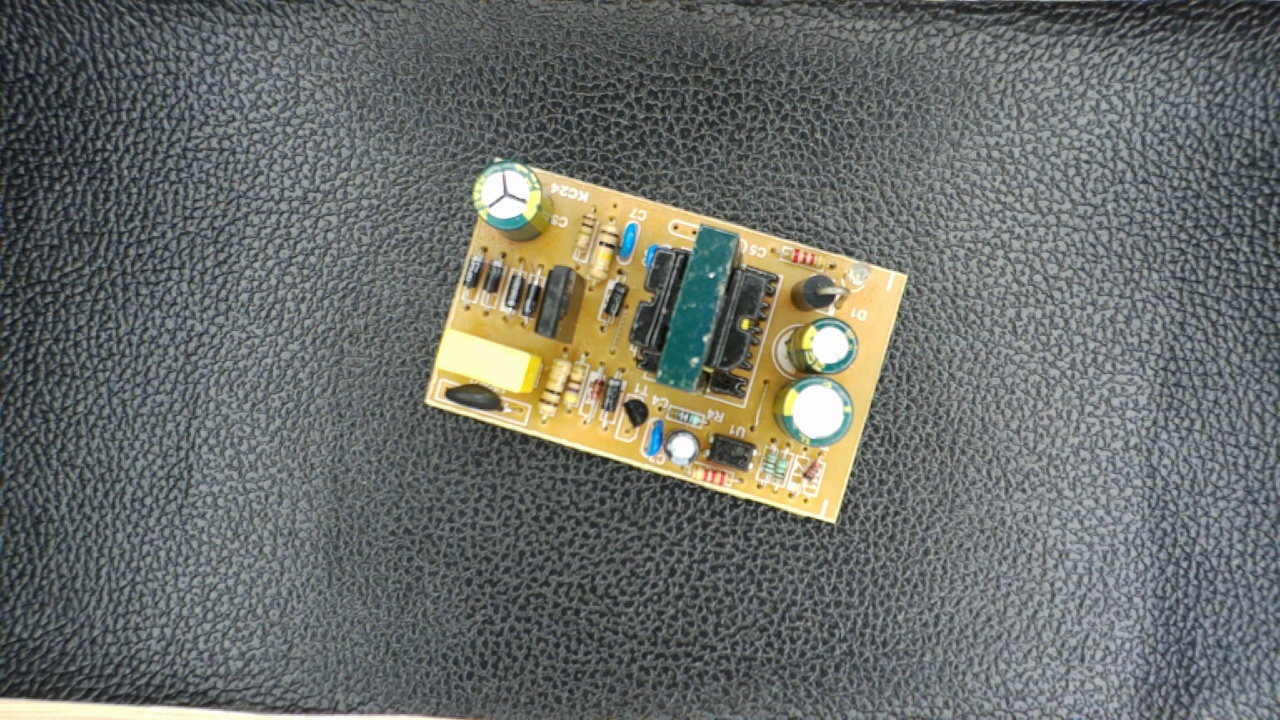fuse: (438, 377, 515, 414)
hv_capacitor: (470, 161, 557, 240)
optocoupler: (699, 428, 761, 474)
